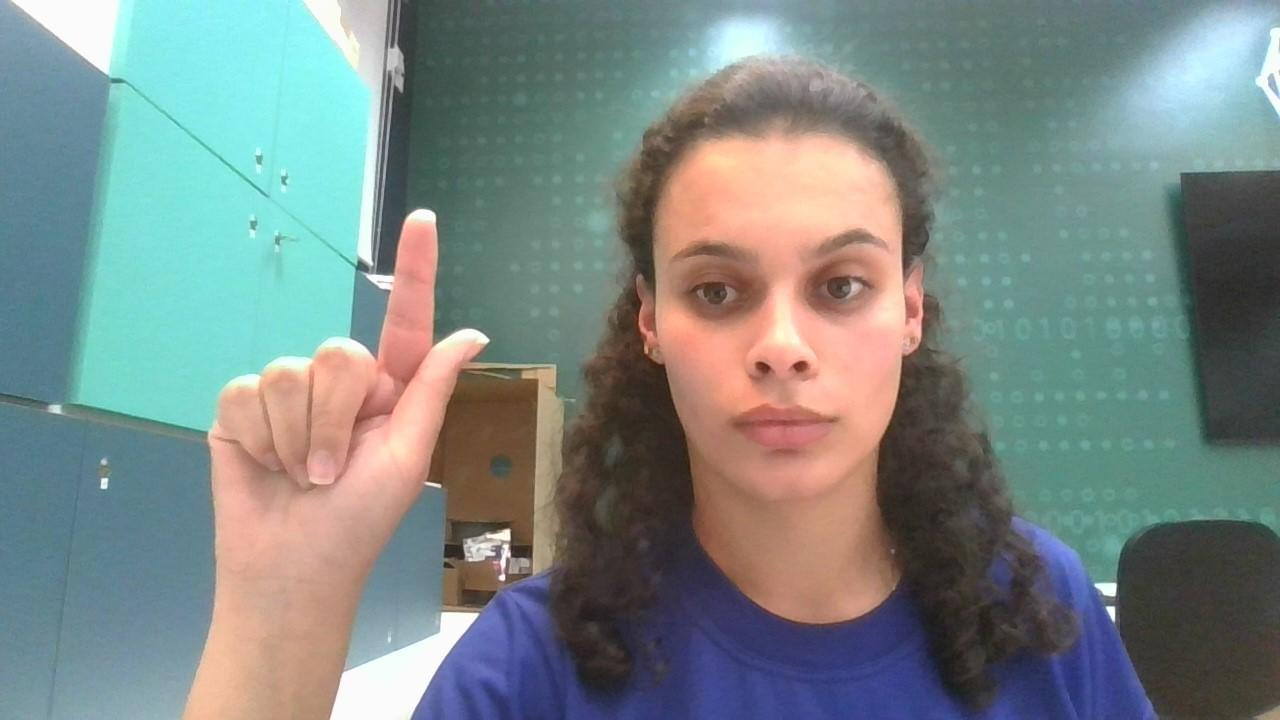G: (192, 195, 495, 602)
